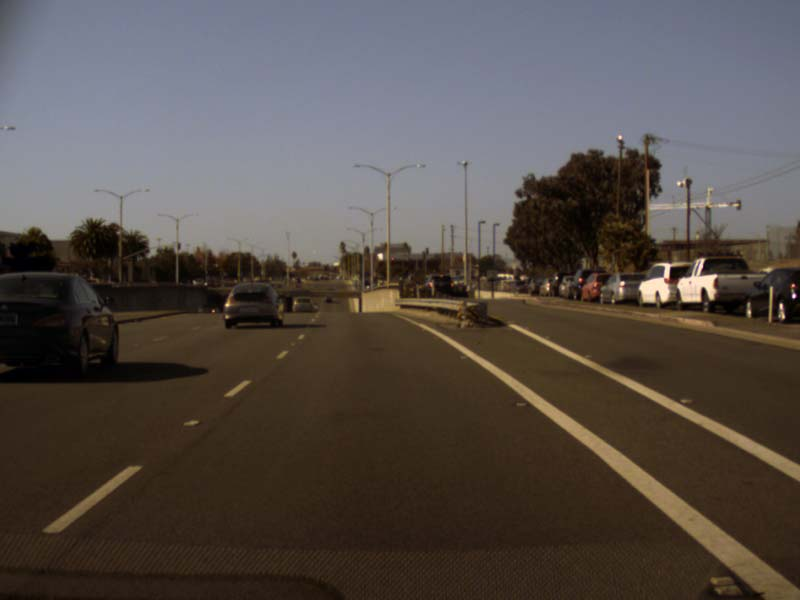Red: (390, 256, 394, 264)
